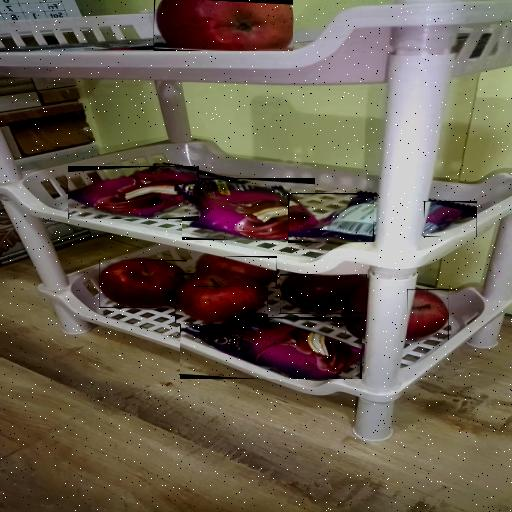Apple: (152, 0, 292, 51), (175, 273, 268, 323), (99, 260, 187, 308), (278, 274, 366, 314), (195, 256, 277, 287), (407, 289, 449, 340)
Choco Pie: (180, 317, 362, 379), (182, 178, 315, 240), (68, 166, 199, 219), (288, 194, 374, 244), (422, 201, 476, 237)
